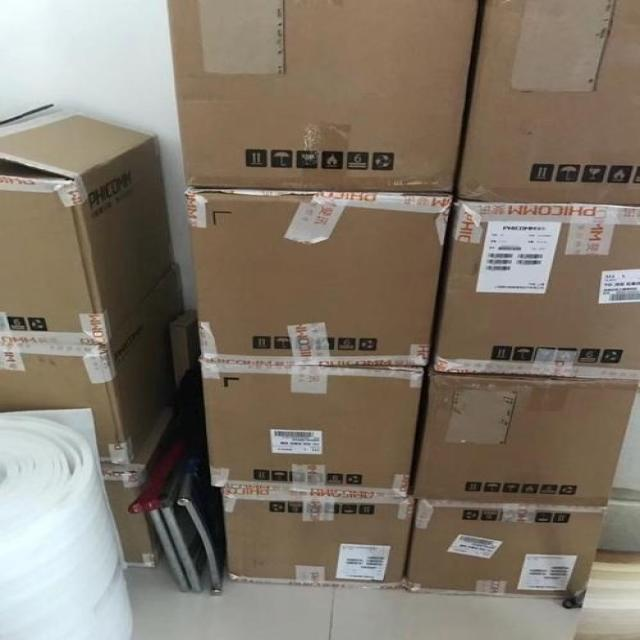box: (168, 0, 479, 195), (188, 189, 453, 366), (0, 103, 175, 343), (456, 0, 639, 207), (433, 200, 639, 383), (0, 267, 185, 468), (198, 359, 423, 497), (412, 370, 637, 507), (404, 499, 608, 603), (223, 489, 412, 590), (95, 399, 180, 569)
